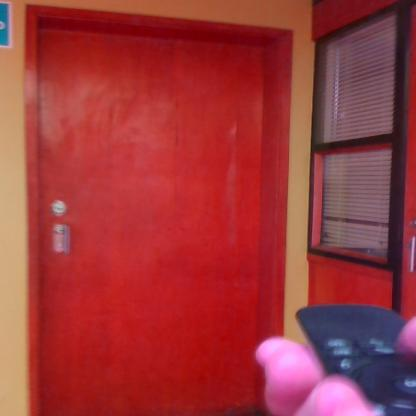door: (34, 23, 262, 416)
knob: (55, 228, 66, 236)
